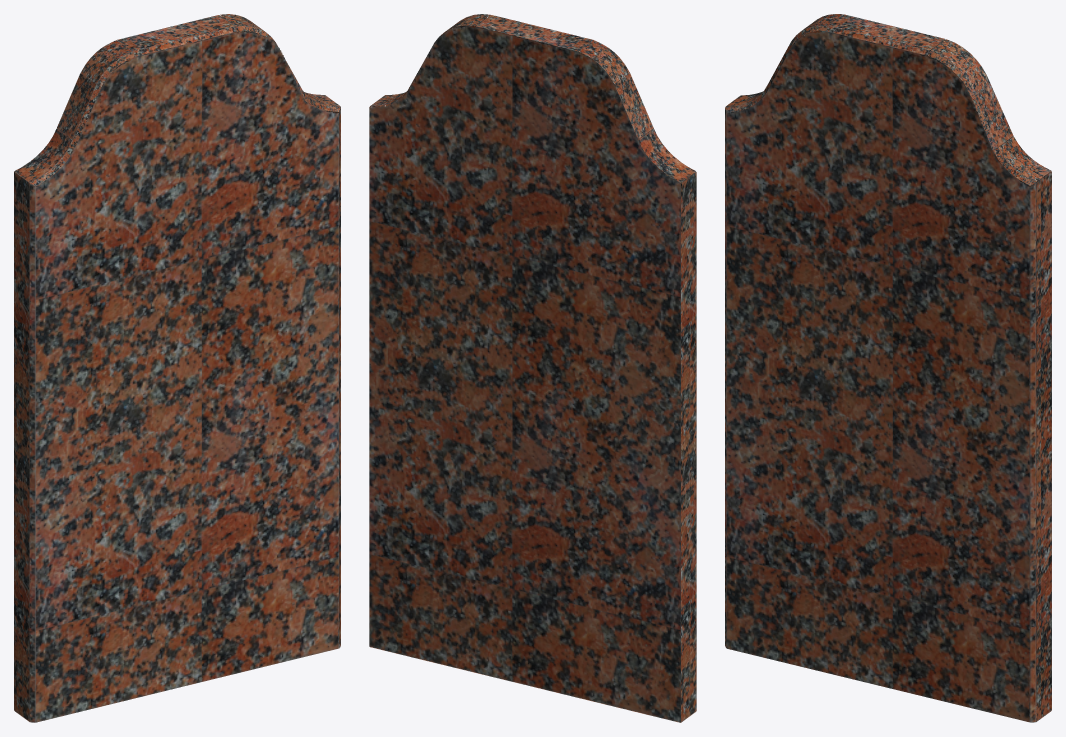
3 renders of one model, left to right at view 1: azimuth 30°, elevation 25°; view 2: azimuth 150°, elevation 25°; view 3: azimuth 330°, elevation 25°, orthographic.
Parts seen in each view (by area): view 1: Front, left, Faska_Left, Torez_verh, Torez_left_krug_niz, Torez_lefl, Faska_Right, Torez_left_krug_verh, faska_front_verh, Back, Right; view 2: Back, left, Torez_verh, Torez_left_krug_niz, Torez_lefl, Torez_left_krug_verh; view 3: Front, Right, Faska_Right, Torez_verh, Torez_right_krug_verh, Torez_right, Faska_Left, Back, Torez_right_krug_niz, faska_front_verh.
Boxes of the visible parts, x1=… form: Front: x1=35, y1=31, x2=339, y2=722; left: x1=14, y1=172, x2=29, y2=721; Faska_Left: x1=29, y1=184, x2=35, y2=722; Torez_verh: x1=117, y1=15, x2=234, y2=50; Torez_left_krug_niz: x1=14, y1=128, x2=71, y2=182; Torez_lefl: x1=57, y1=73, x2=95, y2=139; Faska_Right: x1=339, y1=107, x2=340, y2=647; Torez_left_krug_verh: x1=80, y1=40, x2=131, y2=83; faska_front_verh: x1=133, y1=26, x2=235, y2=56; Back: x1=14, y1=16, x2=325, y2=186; Right: x1=325, y1=105, x2=340, y2=644; Back: x1=369, y1=26, x2=680, y2=722; left: x1=681, y1=172, x2=696, y2=721; Torez_verh: x1=476, y1=15, x2=592, y2=51; Torez_left_krug_niz: x1=638, y1=129, x2=695, y2=182; Torez_lefl: x1=614, y1=73, x2=653, y2=139; Torez_left_krug_verh: x1=578, y1=40, x2=629, y2=83; Front: x1=726, y1=32, x2=1030, y2=722; Right: x1=1036, y1=171, x2=1051, y2=721; Faska_Right: x1=1030, y1=183, x2=1035, y2=722; Torez_verh: x1=828, y1=14, x2=945, y2=50; Torez_right_krug_verh: x1=931, y1=39, x2=989, y2=93; Torez_right: x1=974, y1=83, x2=1013, y2=146; Faska_Left: x1=725, y1=108, x2=726, y2=647; Back: x1=740, y1=16, x2=1051, y2=706; Torez_right_krug_niz: x1=998, y1=136, x2=1051, y2=181; faska_front_verh: x1=826, y1=25, x2=929, y2=55.
Bounding box in the file's own units: 504 × 1000 × 51.78.
